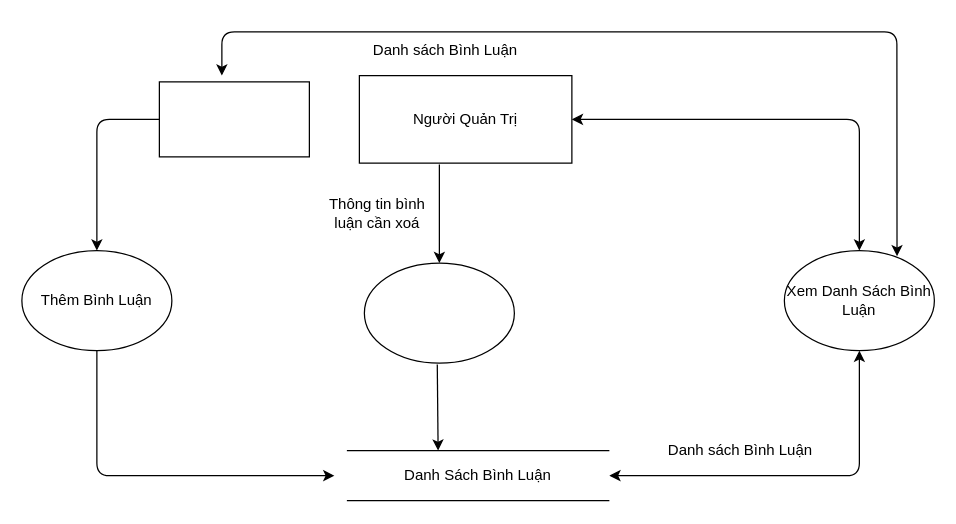
Image size: 956x524. Some labels were removed from this diagram. The shapes that lost their labels are listed below. From the top down, each one's centre as x and y in pixels, then its label:
At (233,119): "Người Xem Bài Viết".
At (438,312): "Xoá Bình Luận".
